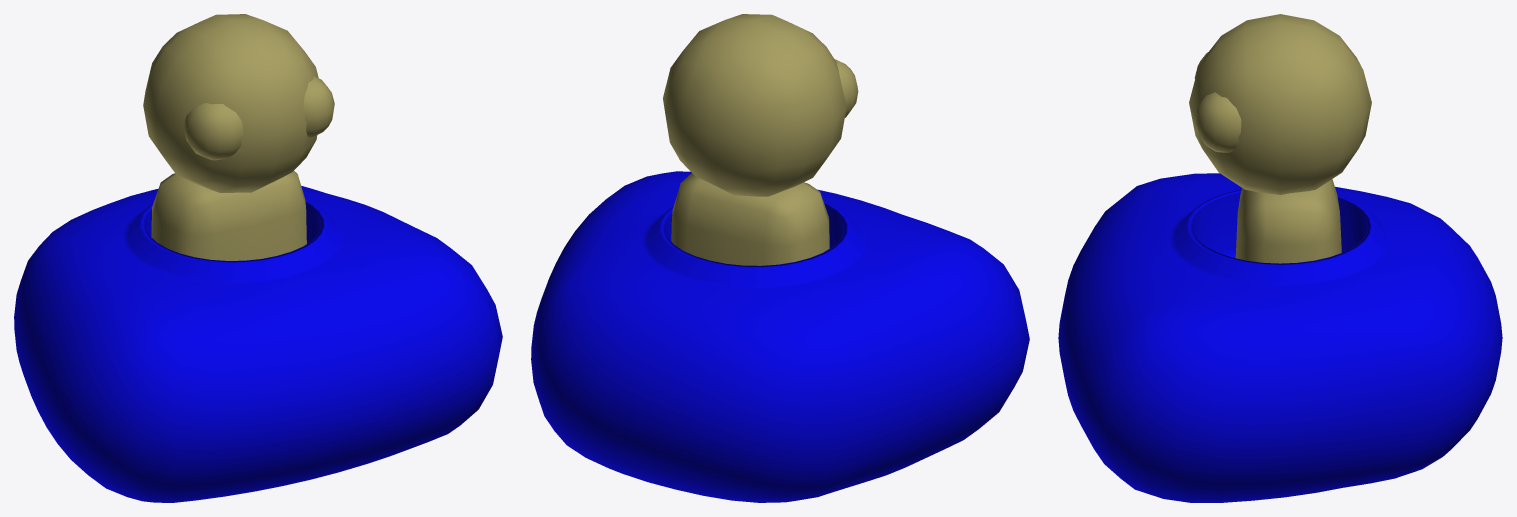
The model's file is PlayerPuck.fbx.
The picture shows the model from 3 angles, left to right: view 1: azimuth 30°, elevation 25°; view 2: azimuth 150°, elevation 25°; view 3: azimuth 270°, elevation 25°; orthographic projection. The views are drawn at different scales.
Parts seen in each view (by area): view 1: PlayerPuck, Player; view 2: PlayerPuck, Player; view 3: PlayerPuck, Player.
Part boxes in pixels (<box>): PlayerPuck: <box>14,186,502,502</box>; Player: <box>143,14,334,260</box>; PlayerPuck: <box>531,171,1029,502</box>; Player: <box>663,14,858,265</box>; PlayerPuck: <box>1058,173,1502,502</box>; Player: <box>1189,14,1371,263</box>.
Bounding box in the file's own units: 2.89 × 2.7 × 2.63.
